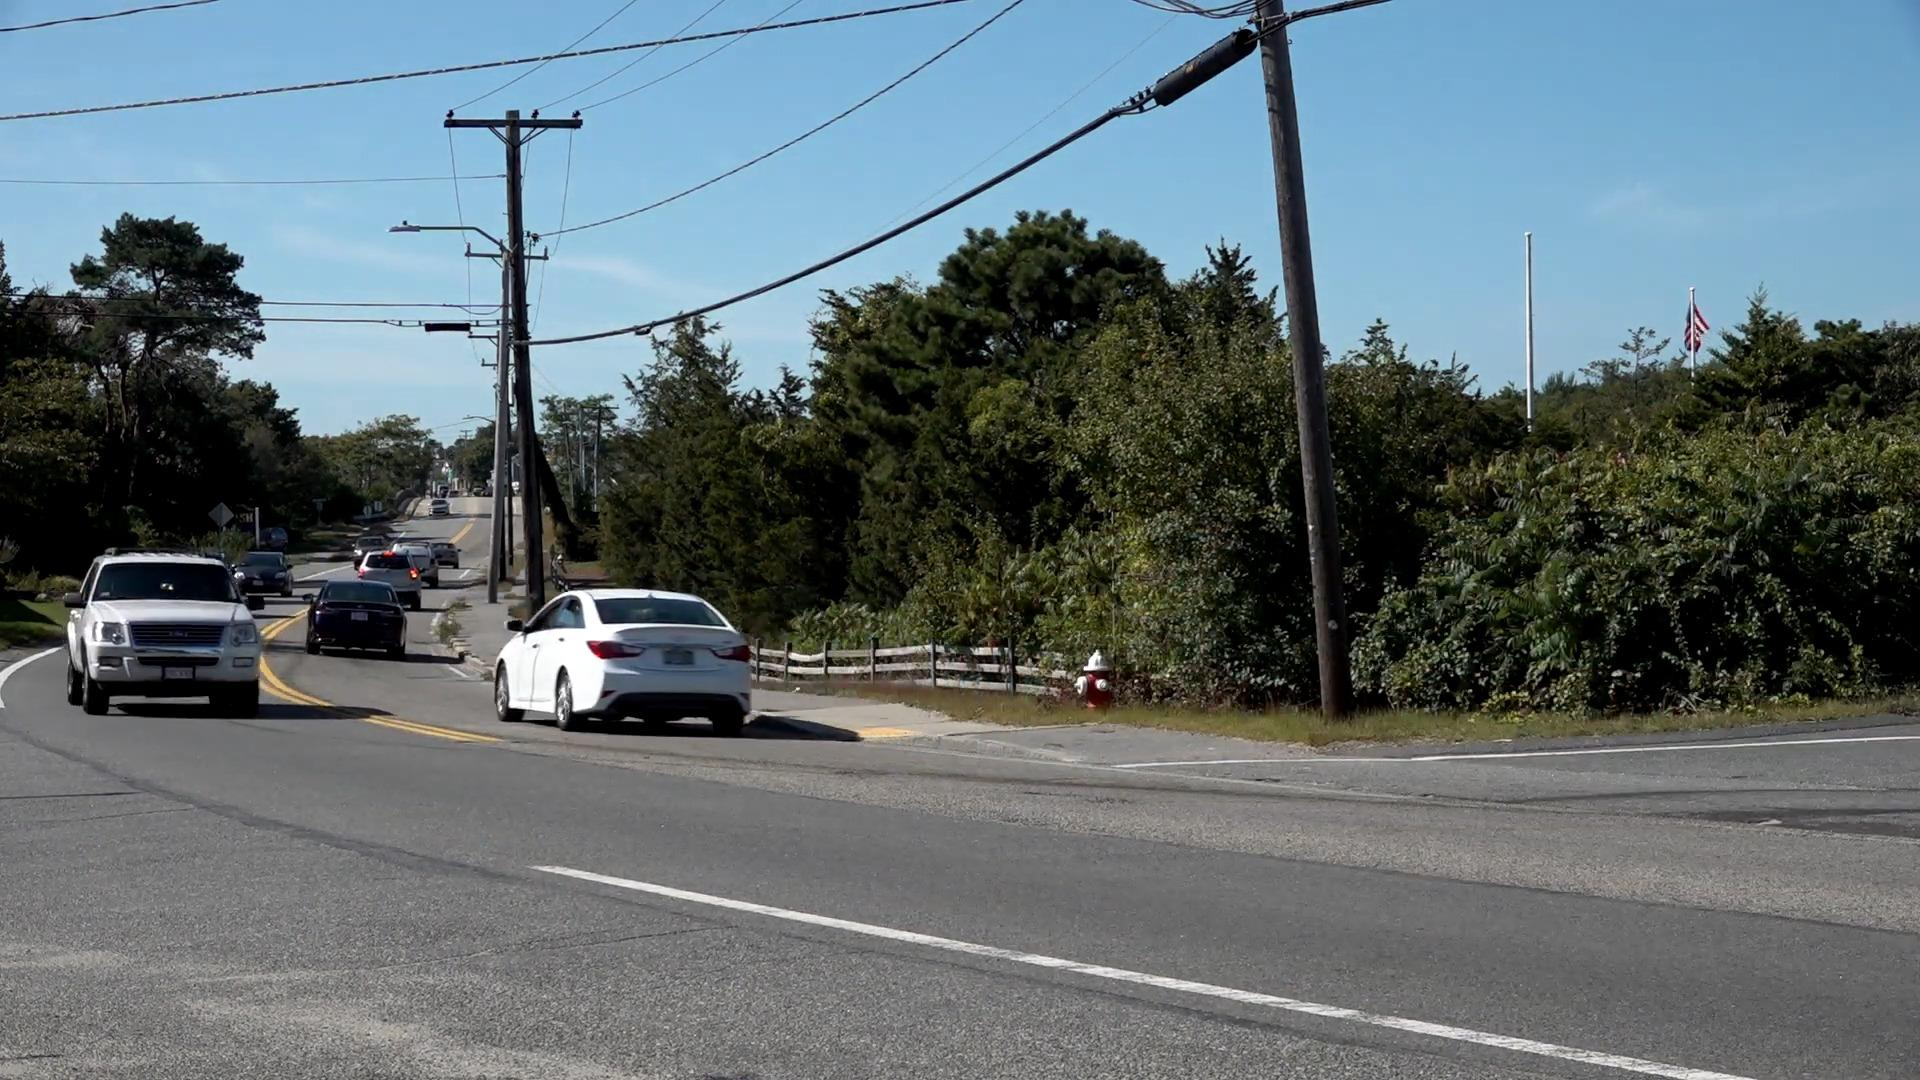sedans: (491, 587, 753, 732)
suv: (67, 555, 268, 716)
